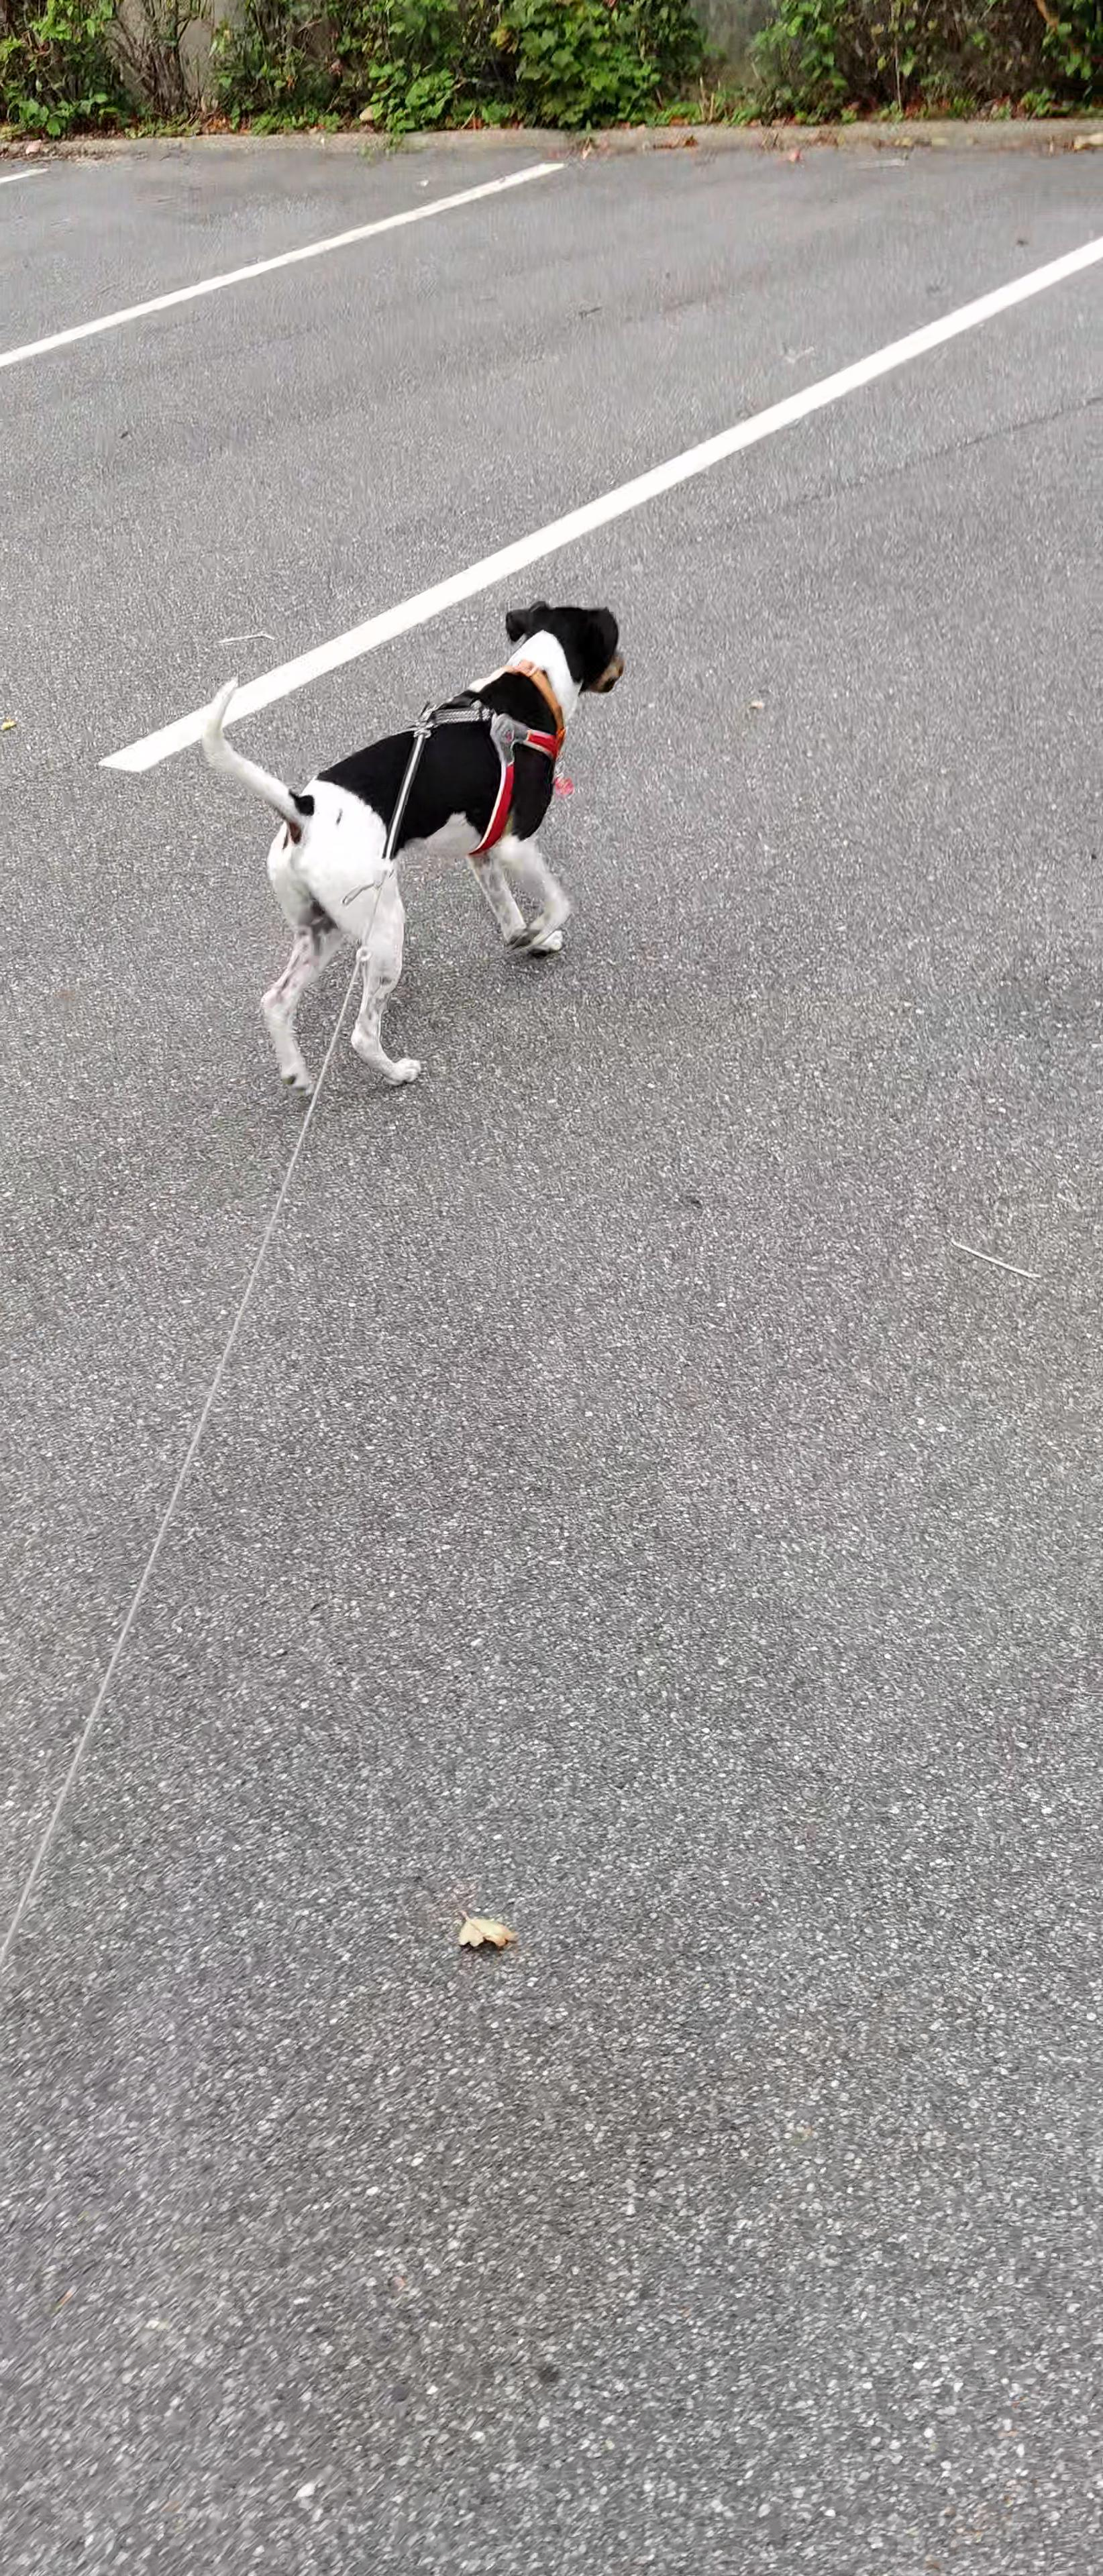Dog: (191, 577, 649, 1127)
